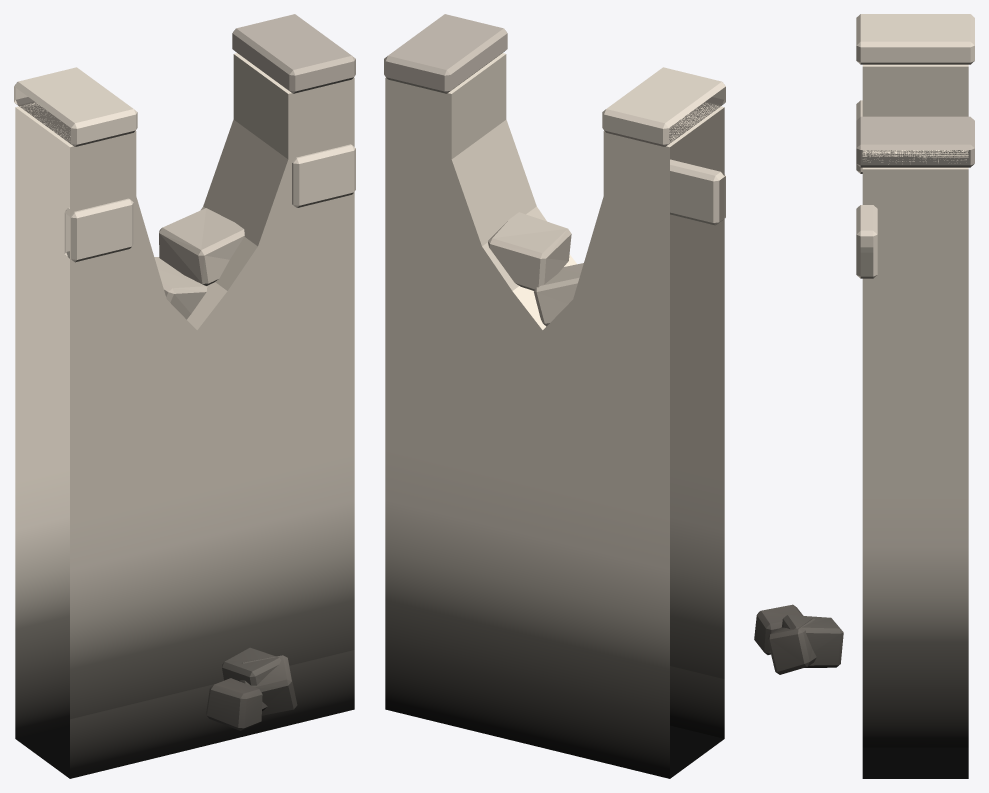
File: SM_VKI_Wall_Ancient_Broken_150_Full.fbx
The picture shows the model from 3 angles, left to right: view 1: azimuth 30°, elevation 25°; view 2: azimuth 150°, elevation 25°; view 3: azimuth 270°, elevation 25°; orthographic projection. The views are drawn at different scales.
Parts seen in each view (by area): view 1: SM_VKI_Wall_Ancient_Broken_150_Full.001; view 2: SM_VKI_Wall_Ancient_Broken_150_Full.001; view 3: SM_VKI_Wall_Ancient_Broken_150_Full.001.
Boxes of the visible parts, <box> form: SM_VKI_Wall_Ancient_Broken_150_Full.001: <box>14,14,355,778</box>; SM_VKI_Wall_Ancient_Broken_150_Full.001: <box>384,14,725,778</box>; SM_VKI_Wall_Ancient_Broken_150_Full.001: <box>754,14,974,778</box>.
Size of the model in its own units: 1.5 by 3.3 by 1.04.
